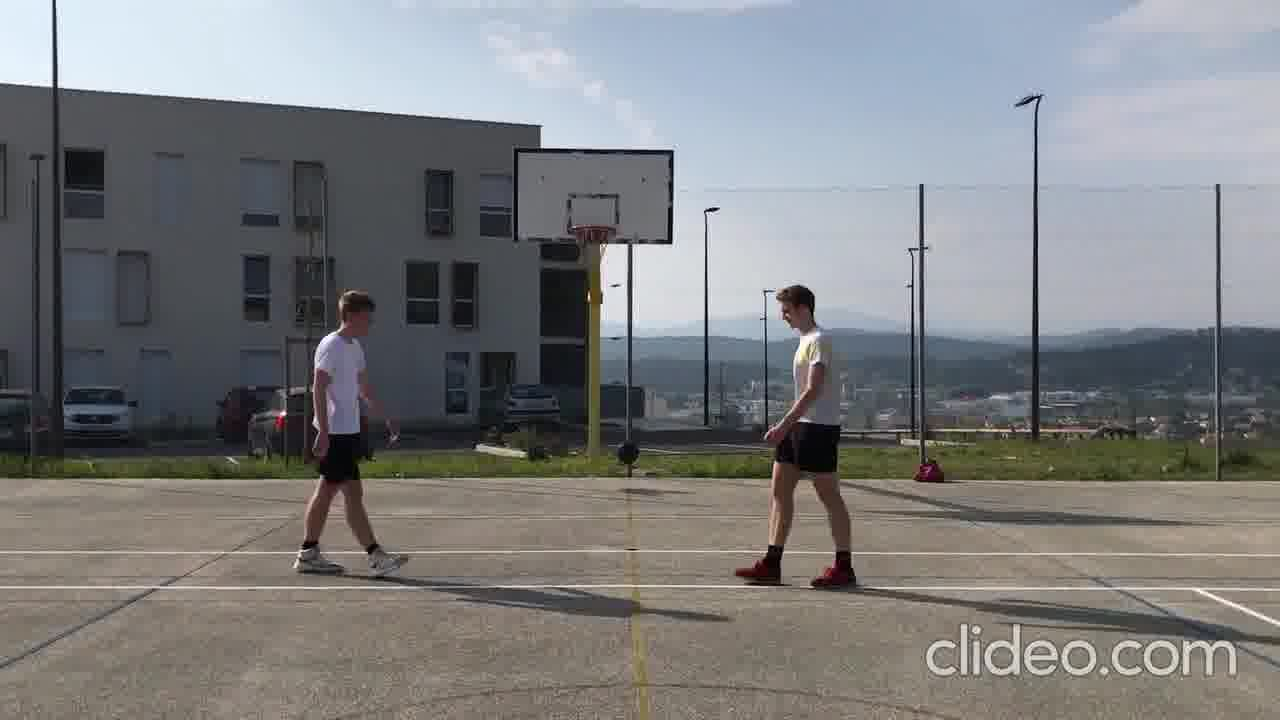jugador: (727, 278, 867, 599)
